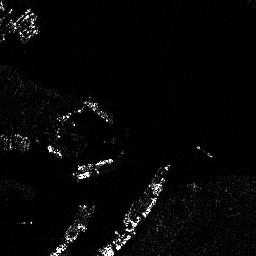ship: (83, 98, 114, 125)
